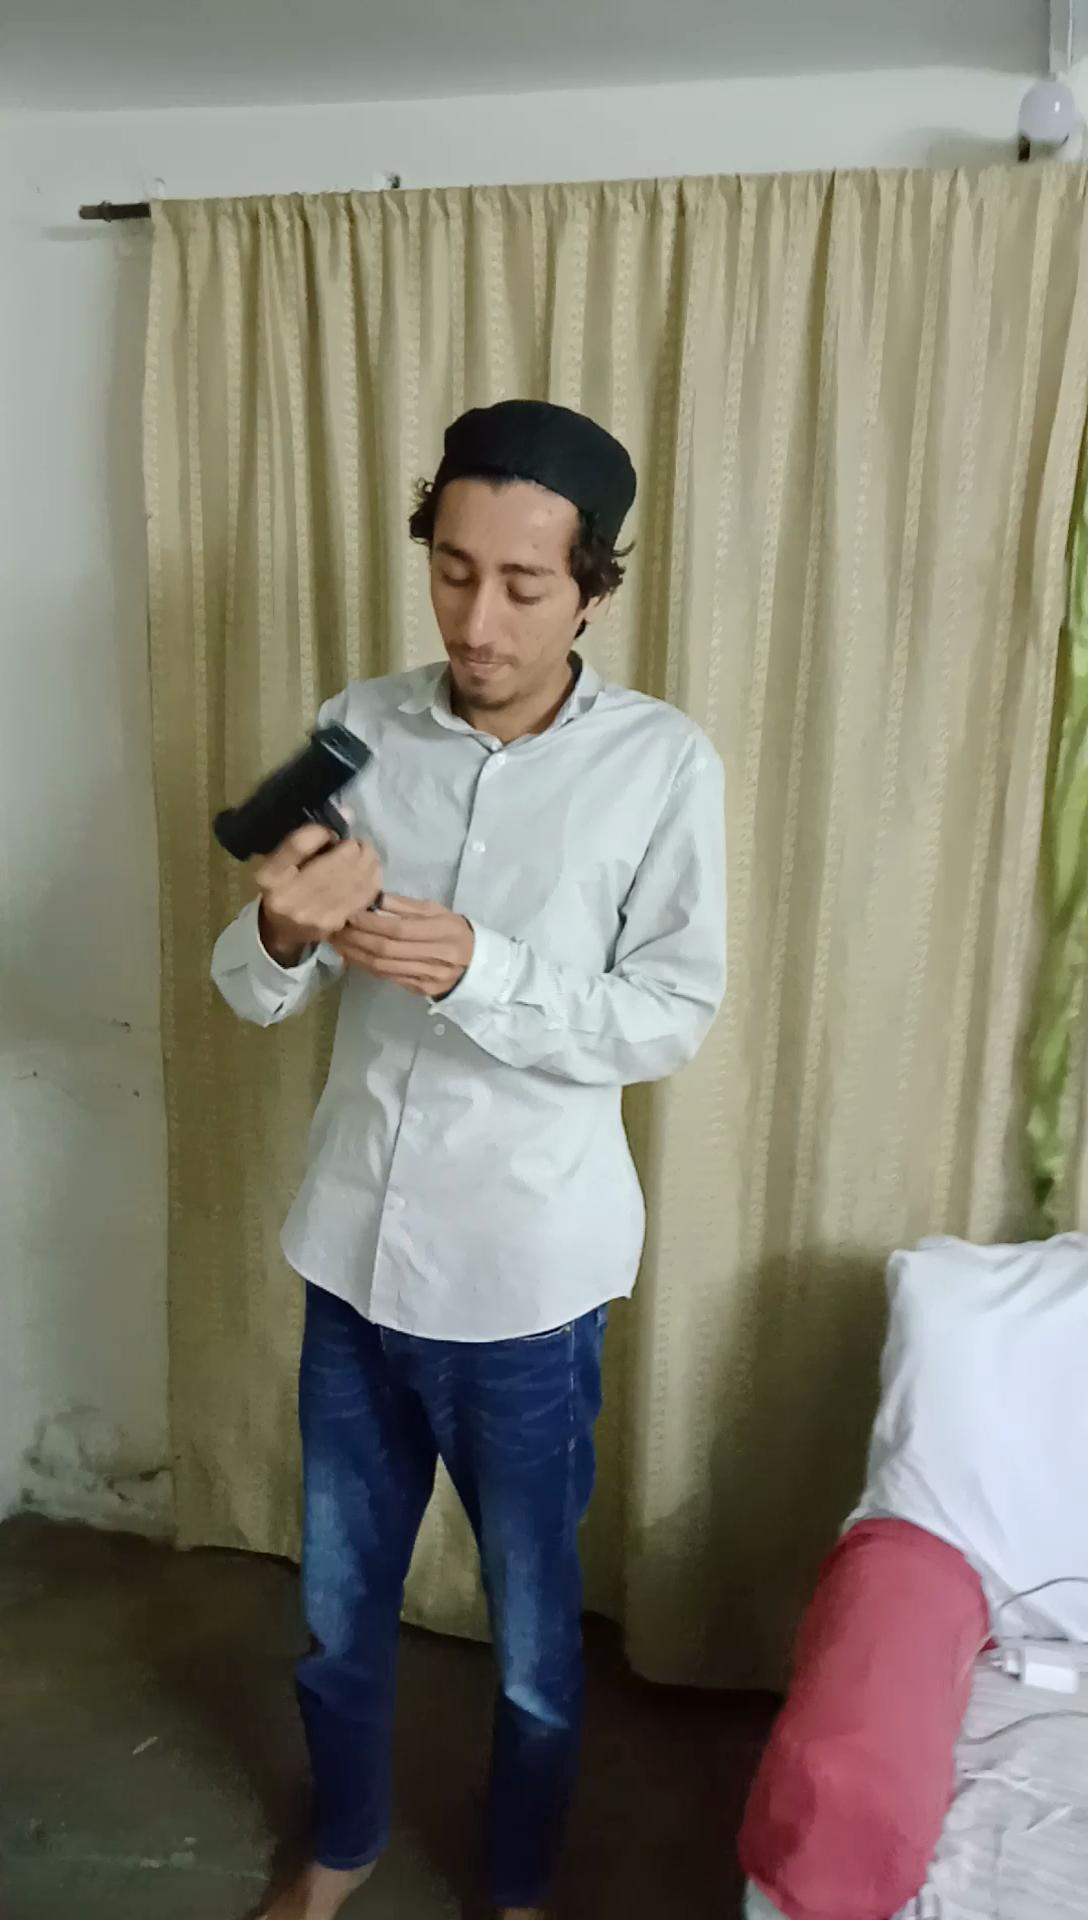criminal: (196, 386, 736, 1920)
weapon: (196, 711, 401, 920)
